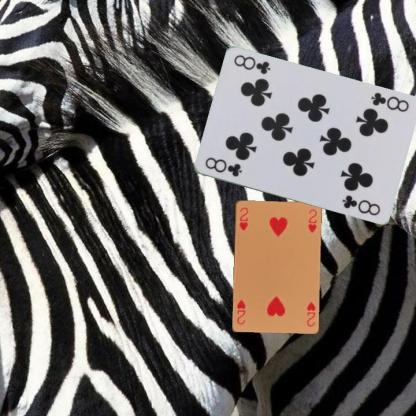2h: (236, 204, 249, 232), (304, 299, 317, 327)
8c: (368, 90, 410, 113), (202, 155, 243, 178)
